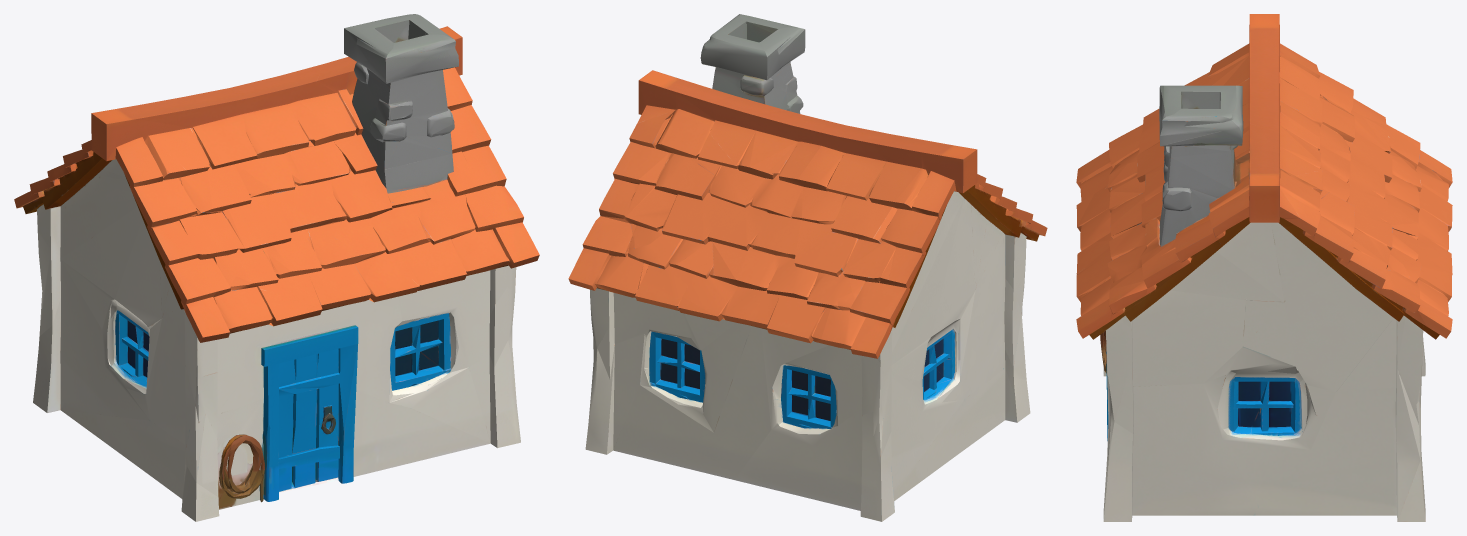
File: cottage.glb
3 renders of one model, left to right at view 1: azimuth 30°, elevation 25°; view 2: azimuth 150°, elevation 25°; view 3: azimuth 270°, elevation 25°, orthographic. The views are drawn at different scales.
Size of the model in its own units: 1.8 by 1.9 by 1.67.
Materials: 1 (1 with a texture image).
